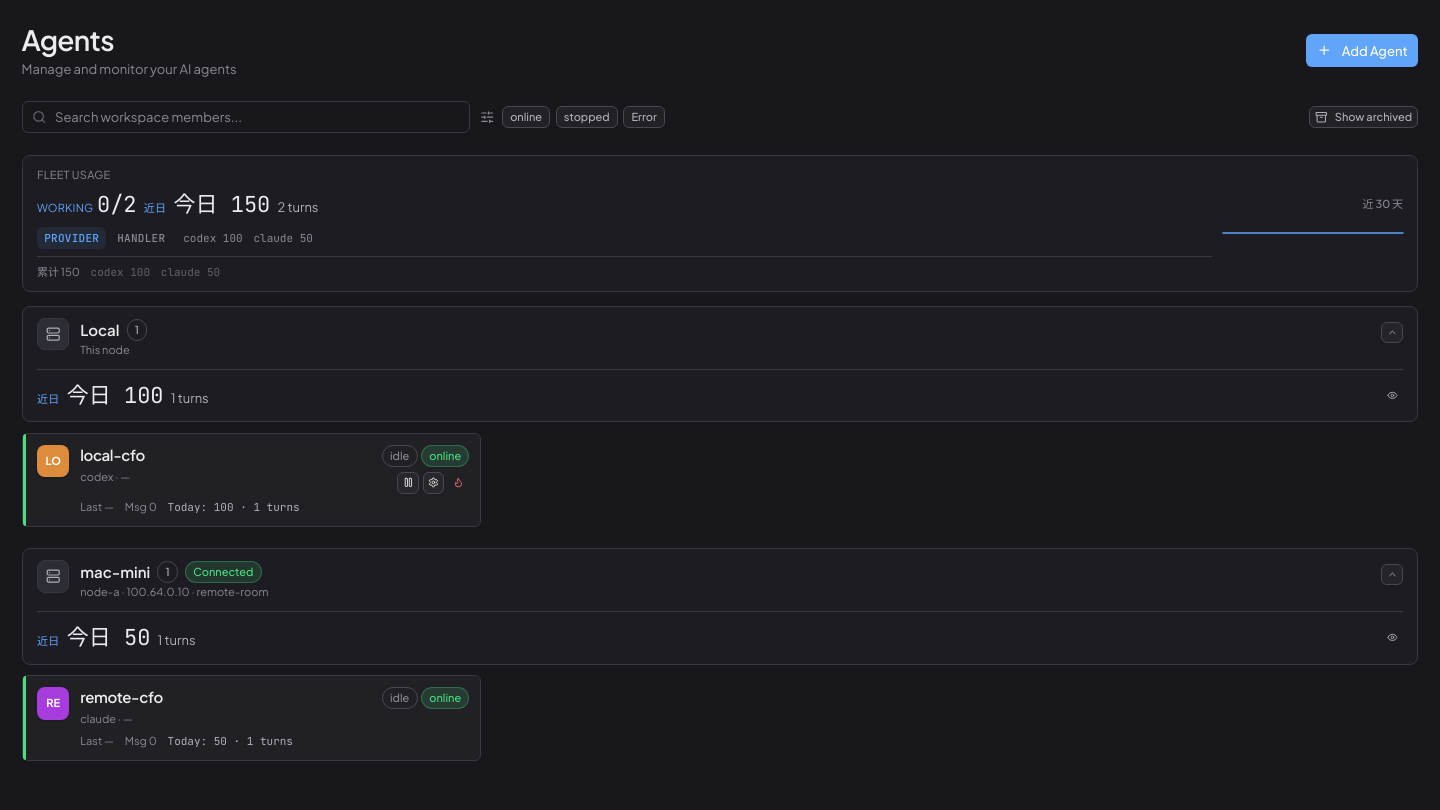
it: AgentList fleet grouping › shows a per-node usage summary and keeps rich details collapsed
Expected: the button named "Show mac-mini usage details" is shown, x1=1381 y1=627 x2=1403 y2=649
Click the button named "Show Local usage details": click(1392, 396) x1=1381 y1=385 x2=1403 y2=406
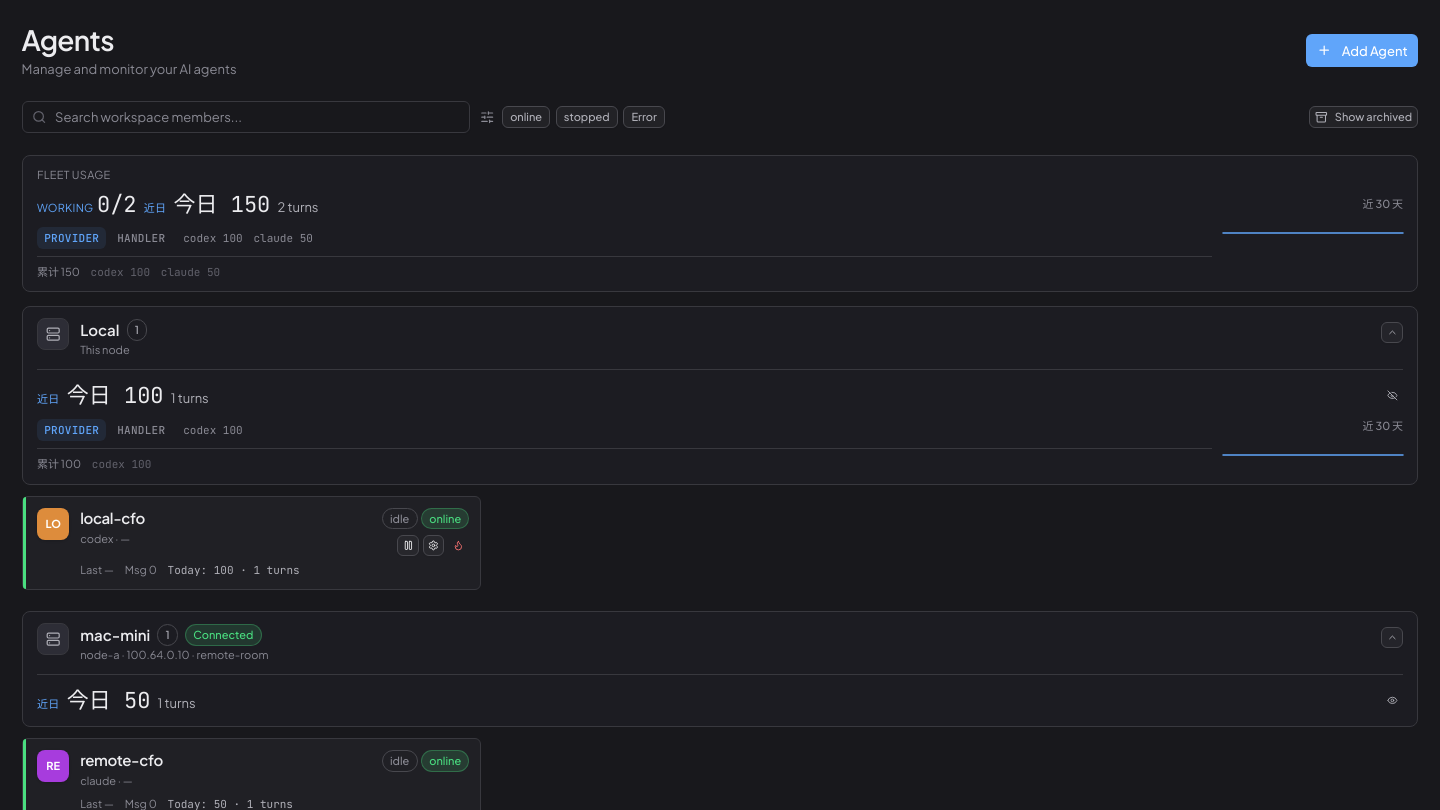
Expected: the button named "Show Local usage details" is expanded, x1=1381 y1=385 x2=1403 y2=406
Expected: the element with test id "workspace-usage-today" showing "Provider Handler codex 100" is shown, x1=37 y1=419 x2=243 y2=441
